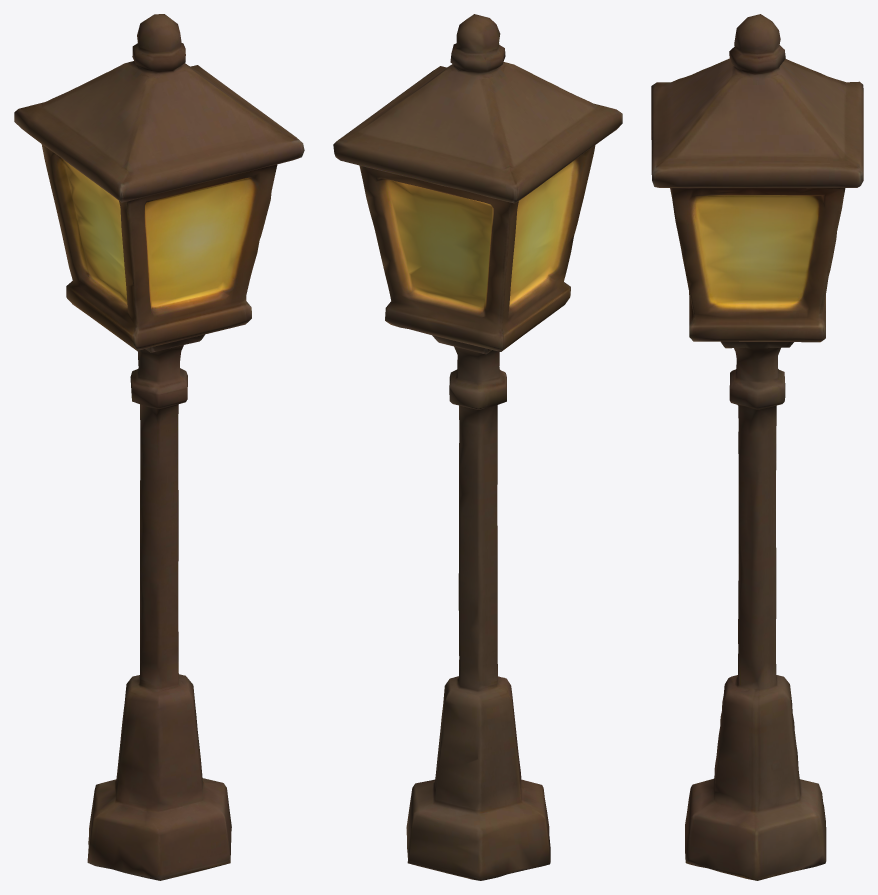
Rendered from Lantern1.glb.
3 views of the same model, side by side, from view 1: azimuth 30°, elevation 25°; view 2: azimuth 150°, elevation 25°; view 3: azimuth 270°, elevation 25° (orthographic).
Parts seen in each view (by area): view 1: Mesh1.0; view 2: Mesh1.0; view 3: Mesh1.0.
Part boxes in pixels (<box>): Mesh1.0: <box>14,14,304,880</box>; Mesh1.0: <box>333,14,622,880</box>; Mesh1.0: <box>651,14,863,880</box>.
Size of the model in its own units: 0.4662 by 2 by 0.4645.
1 material, 1 textured.
